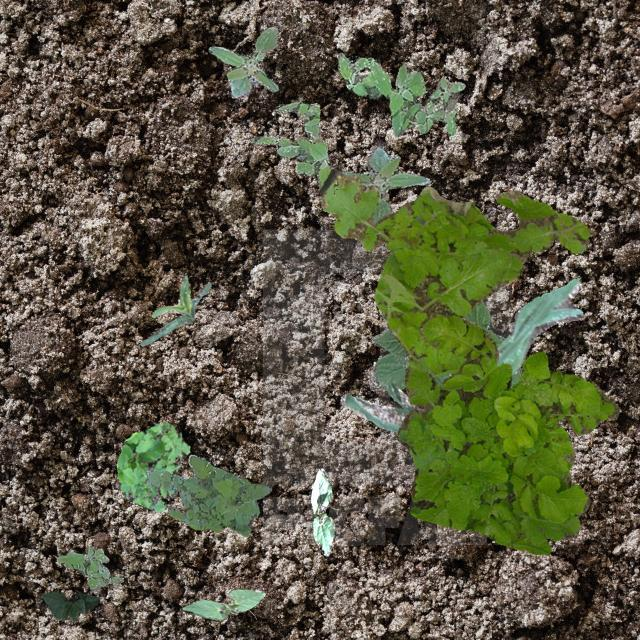crop: (338, 276, 582, 431), (369, 300, 522, 388), (140, 274, 210, 344), (182, 588, 264, 620), (310, 466, 334, 554), (40, 590, 99, 622)
weed: (318, 168, 592, 376), (396, 312, 618, 554), (336, 51, 464, 136), (146, 454, 270, 534), (250, 100, 328, 188), (341, 144, 428, 222), (115, 422, 188, 512), (208, 27, 278, 96), (56, 546, 122, 594)
